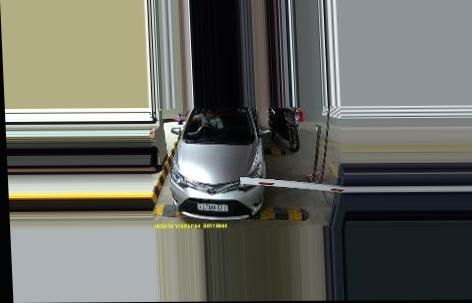License_Plate: (197, 200, 229, 212)
